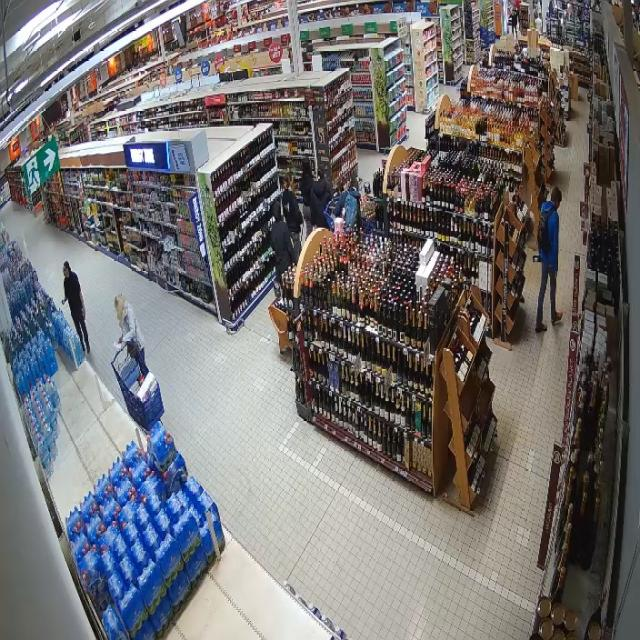article: (532, 255, 541, 263)
bags: (538, 209, 552, 253), (343, 194, 358, 226), (127, 322, 140, 356)
hands: (119, 335, 124, 345), (553, 272, 558, 281), (61, 298, 67, 305), (82, 307, 85, 318)
person: (536, 187, 562, 333), (115, 295, 148, 377), (270, 199, 296, 297), (62, 262, 89, 353), (281, 176, 302, 261), (310, 169, 331, 228), (336, 177, 359, 226), (300, 159, 313, 237)
